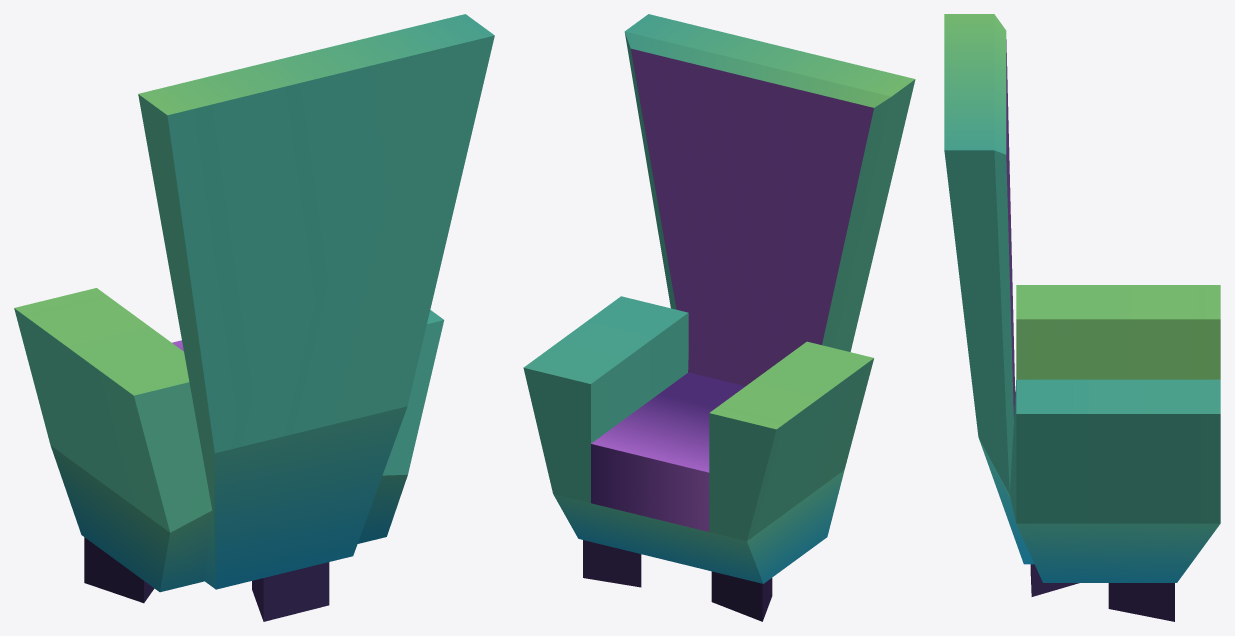
File: SM_Chair_01.fbx
3 views of the same model, side by side, from view 1: azimuth 30°, elevation 25°; view 2: azimuth 150°, elevation 25°; view 3: azimuth 270°, elevation 25° (orthographic). The views are drawn at different scales.
Parts seen in each view (by area): view 1: Chair, Foot.001, Foot.002; view 2: Chair, Foot, Foot.002; view 3: Chair, Foot, Foot.001.
Part boxes in pixels (x1,y1,x2,y2): Chair: (14,14,494,592); Foot.001: (252,562,329,621); Foot.002: (84,537,154,603); Chair: (523,14,915,583); Foot: (583,540,641,587); Foot.002: (711,571,772,621); Chair: (944,14,1220,582); Foot: (1108,583,1174,621); Foot.001: (1030,564,1079,596).
Bounding box in the file's own units: 103 × 121 × 204.
